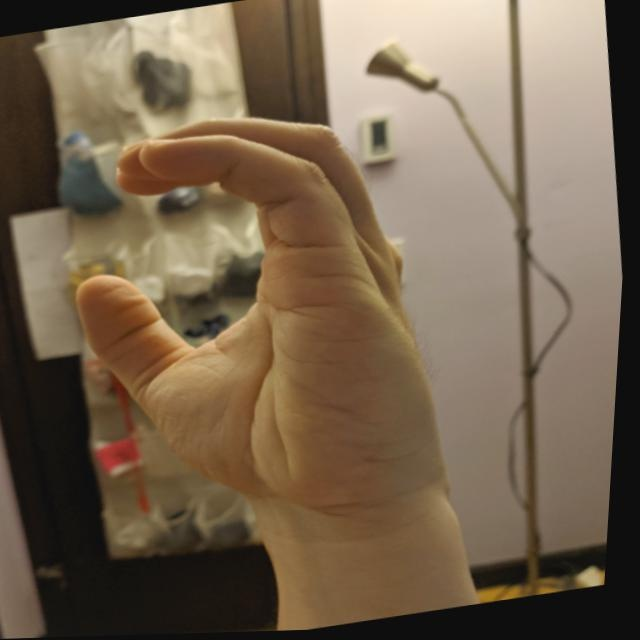C: (36, 80, 488, 574)
